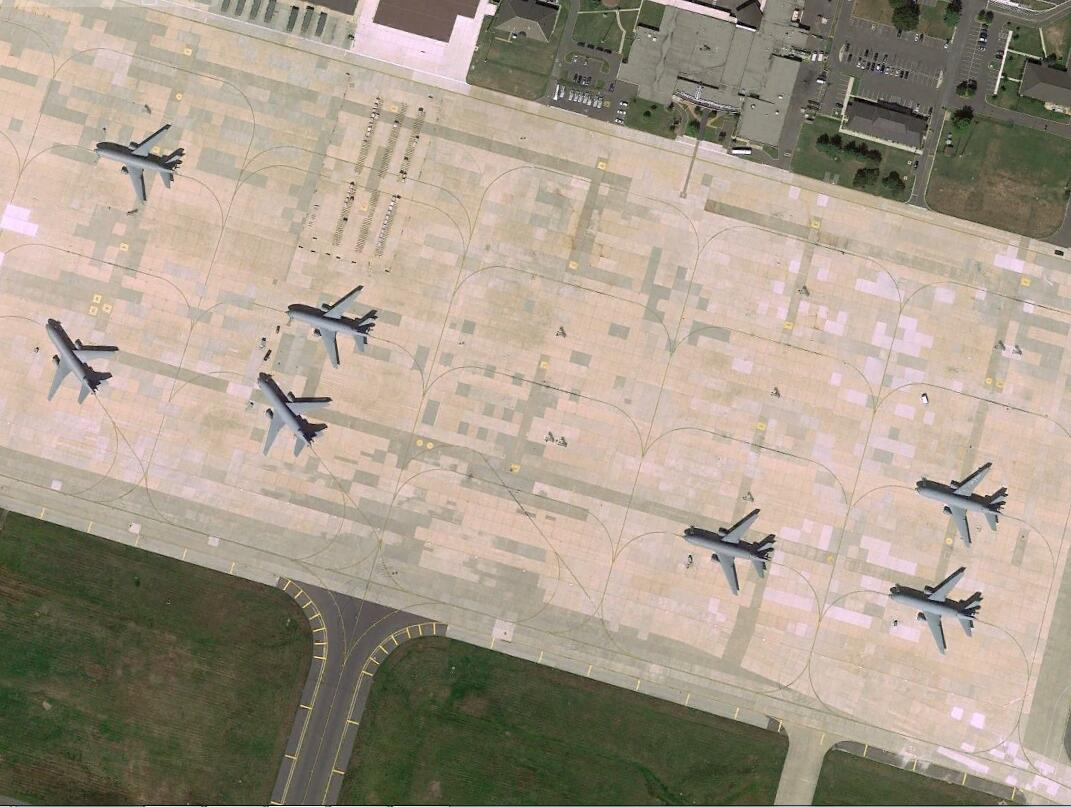A18: (682, 506, 781, 597), (890, 565, 987, 654), (916, 460, 1012, 547), (40, 316, 123, 405), (287, 284, 379, 364), (254, 372, 335, 460), (98, 125, 187, 205)
